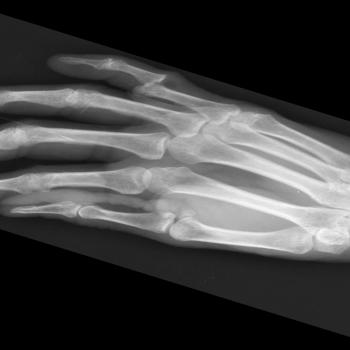Fracture: (131, 67, 176, 96)
